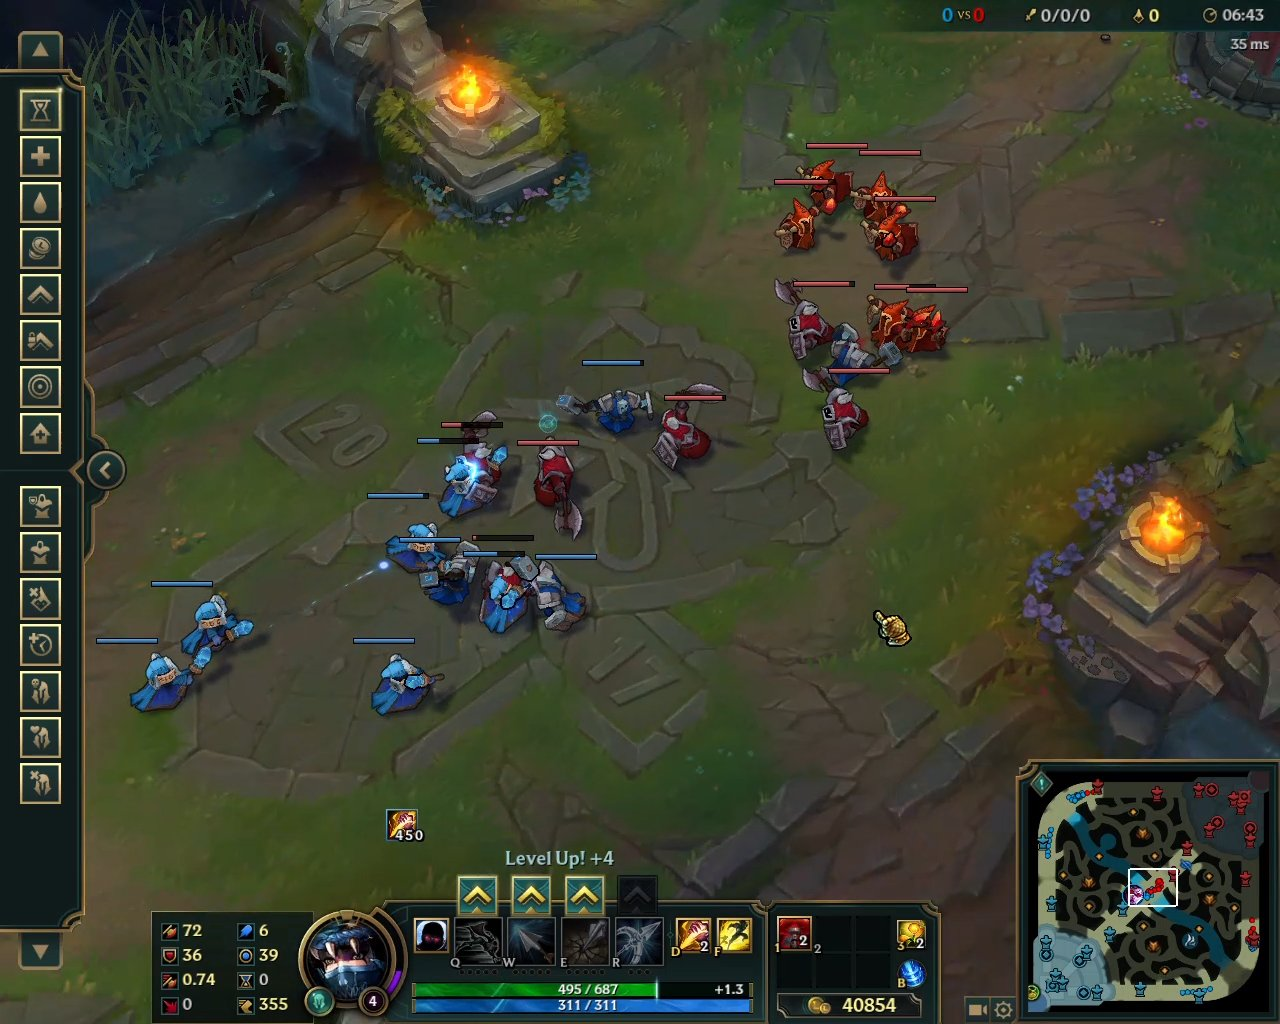EnemyMinion: (514, 435, 594, 545), (797, 368, 890, 453), (649, 380, 734, 474), (862, 285, 970, 354), (771, 278, 858, 362), (854, 197, 935, 266), (851, 149, 926, 222), (774, 179, 836, 259), (795, 143, 866, 212)
